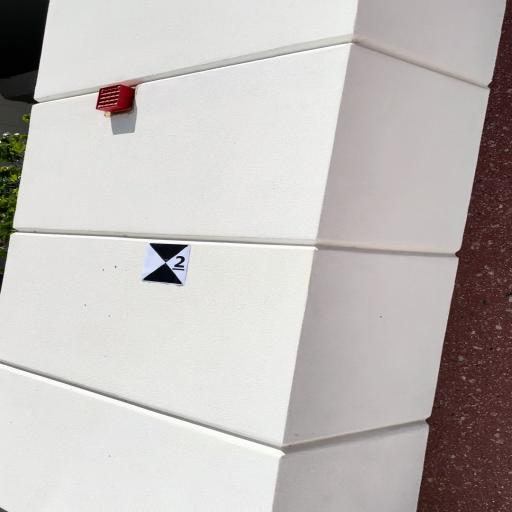target2: (137, 243, 193, 287)
